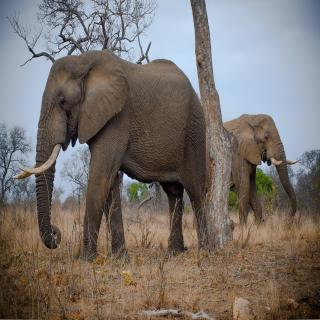Elephant: (11, 48, 214, 264), (215, 109, 308, 228)
